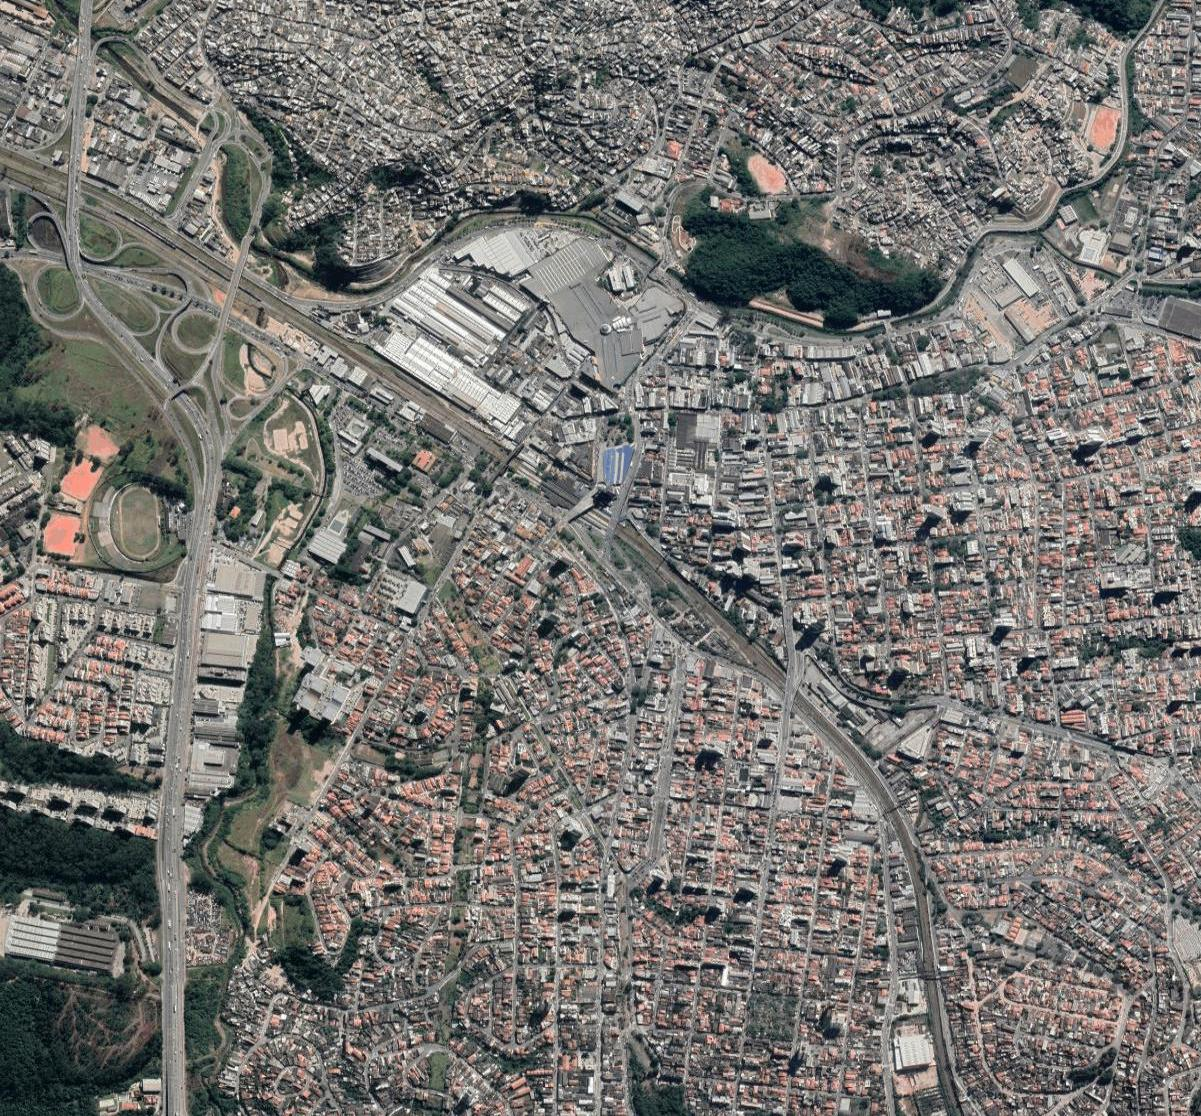motorway: (104, 312, 209, 427), (160, 595, 203, 784), (152, 784, 194, 973), (61, 139, 101, 322), (177, 417, 214, 601), (151, 972, 191, 1116), (68, 1, 88, 144)
train_station: (540, 479, 612, 530)
